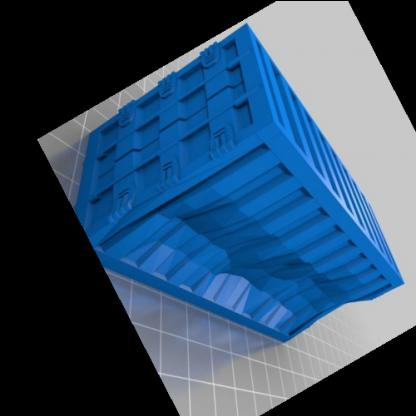Damage: (188, 210, 344, 314)
